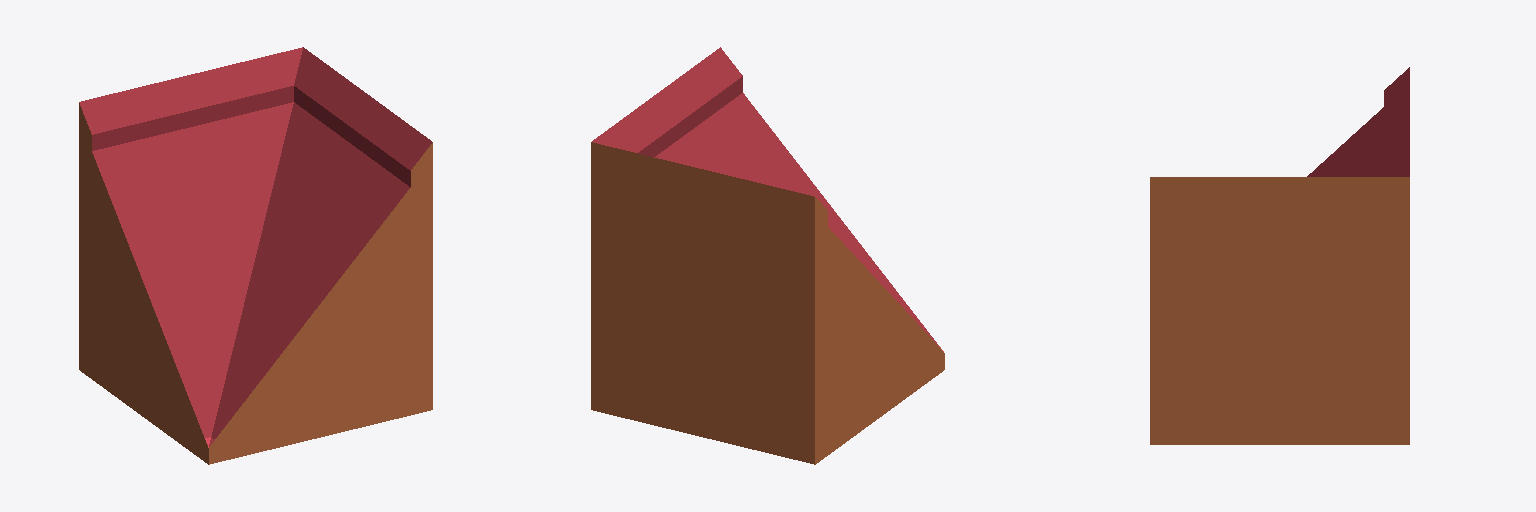
Rendered from roofHighCornerInner.obj.
The picture shows the model from 3 angles: view 1: azimuth 30°, elevation 25°; view 2: azimuth 150°, elevation 25°; view 3: azimuth 270°, elevation 25°; orthographic projection.
Parts seen in each view (by area): view 1: roofHighCornerInner; view 2: roofHighCornerInner; view 3: roofHighCornerInner.
Boxes of the visible parts, <box> form: roofHighCornerInner: <box>79,47,432,464</box>; roofHighCornerInner: <box>591,47,944,464</box>; roofHighCornerInner: <box>1150,67,1409,444</box>.
Bounding box in the file's own units: 1 × 1.14 × 1.